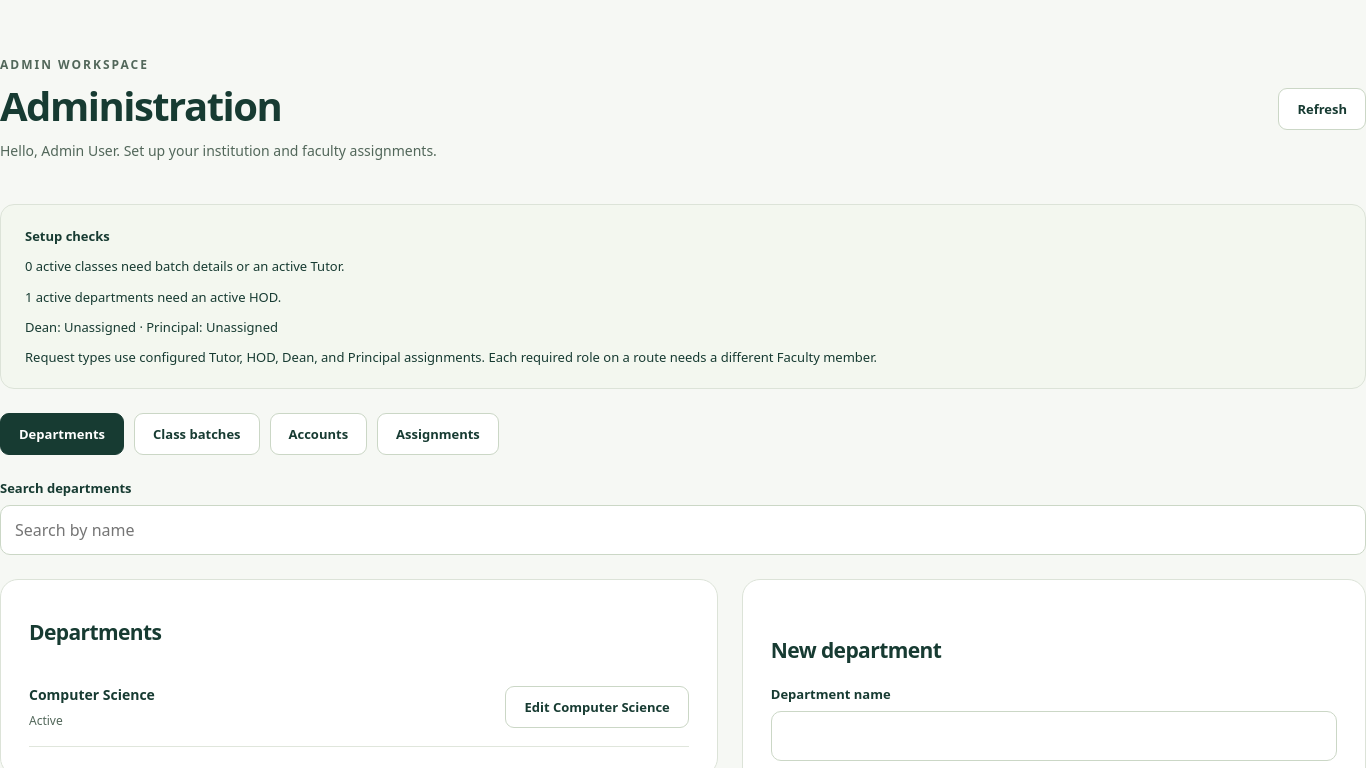
Test: Admin workspace › discards configuration on a failed authorization refresh
Expected: the button "Edit Computer Science" is shown, [505,686,689,728]
Click the button "Refresh" at (1322, 109), box [1278,88,1365,130]
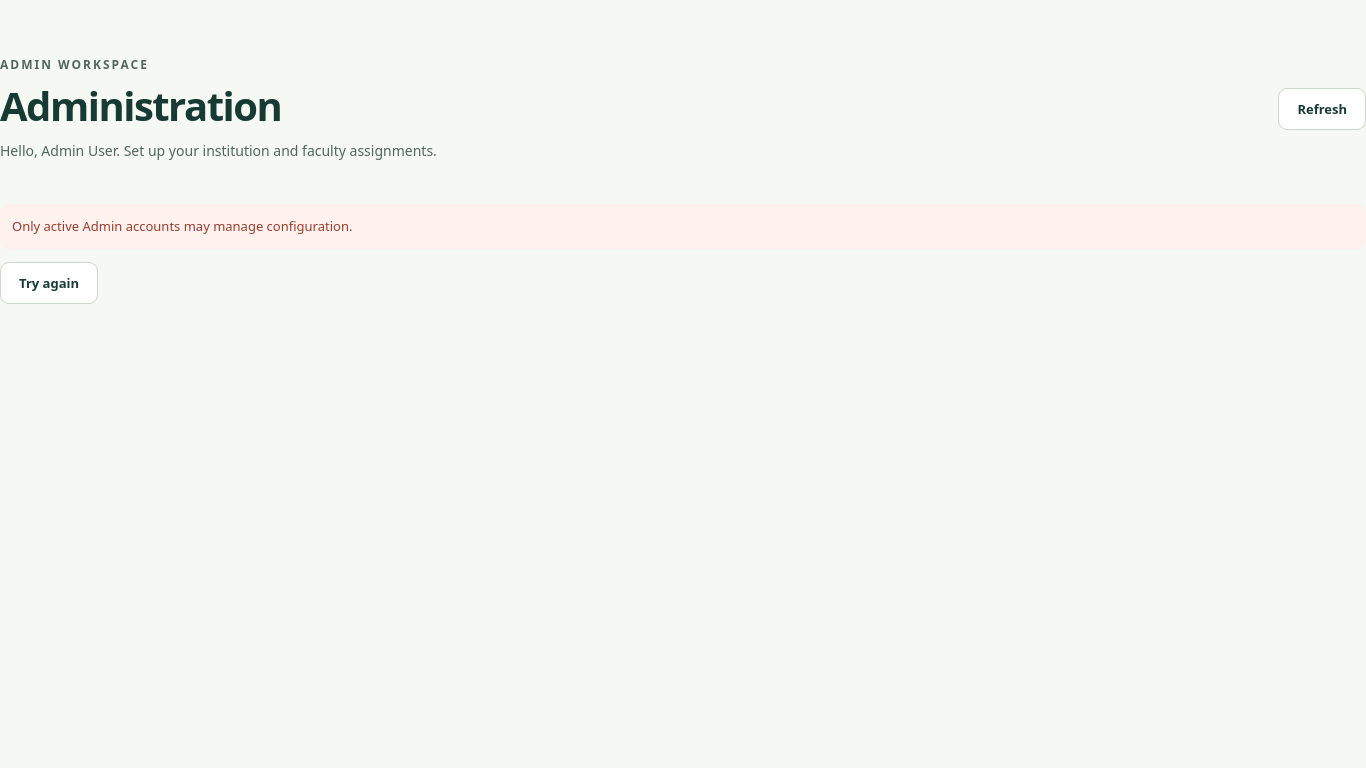
Expected: the message shows "Only active Admin", [12,217,352,235]
Expected: the button "Edit Computer Science" is gone
